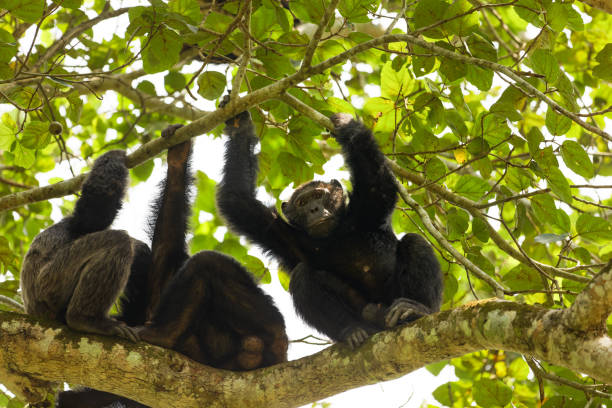chimpanzee: (278, 166, 354, 244)
